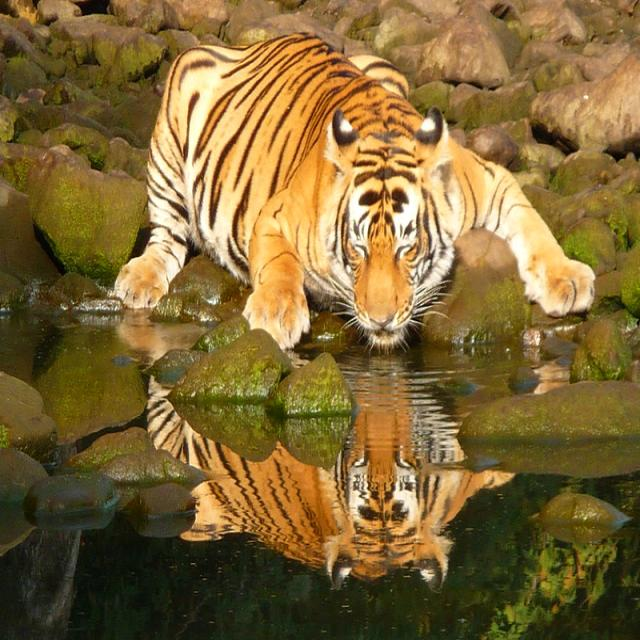Tiger: (112, 29, 594, 352)
